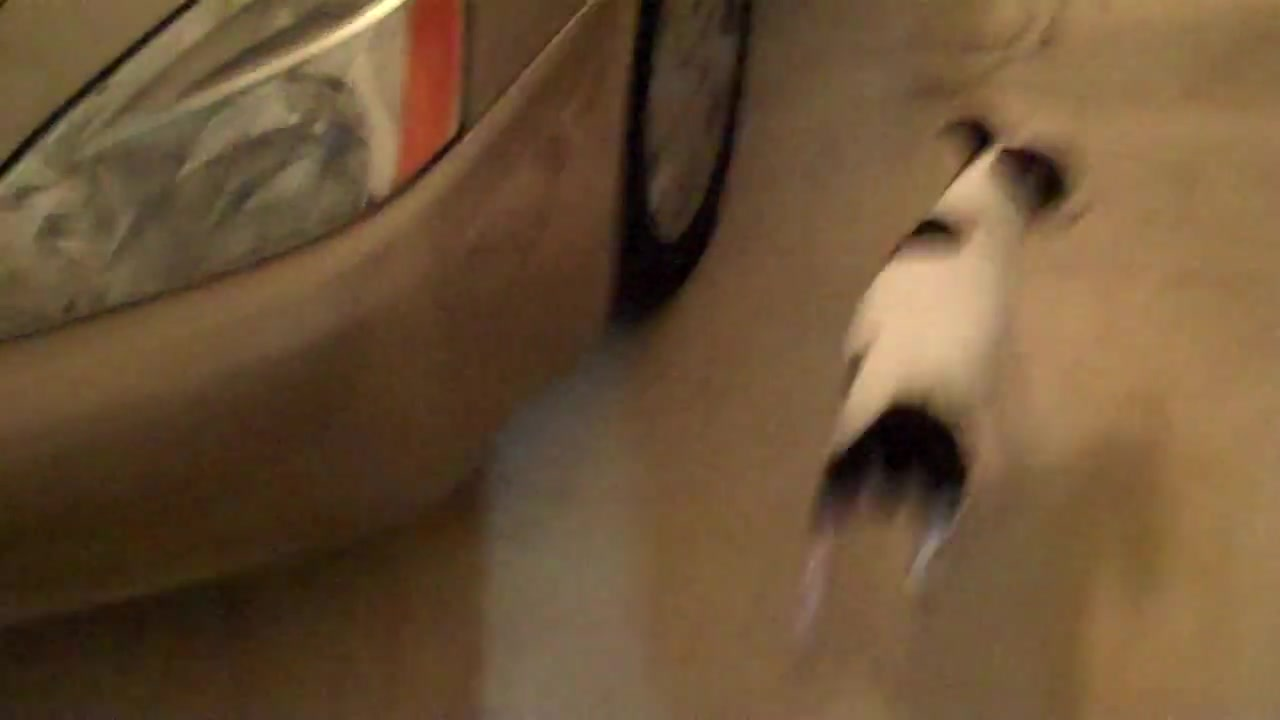dog: (787, 115, 1094, 661)
